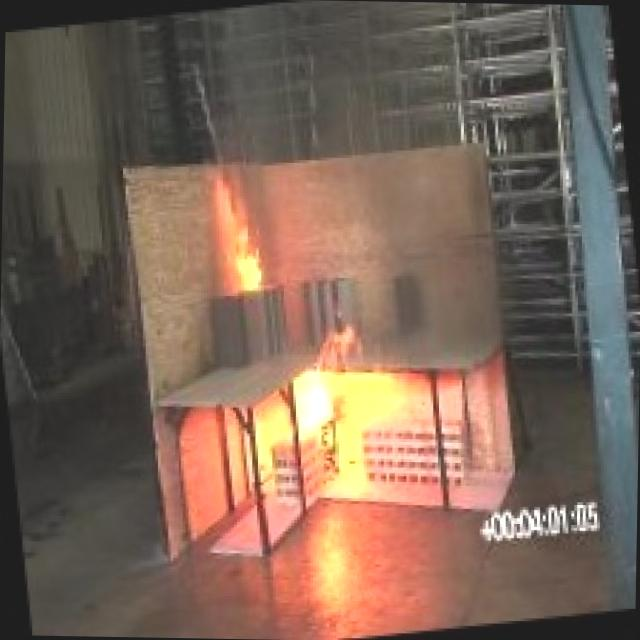fire: (276, 340, 406, 510), (190, 174, 292, 320)
